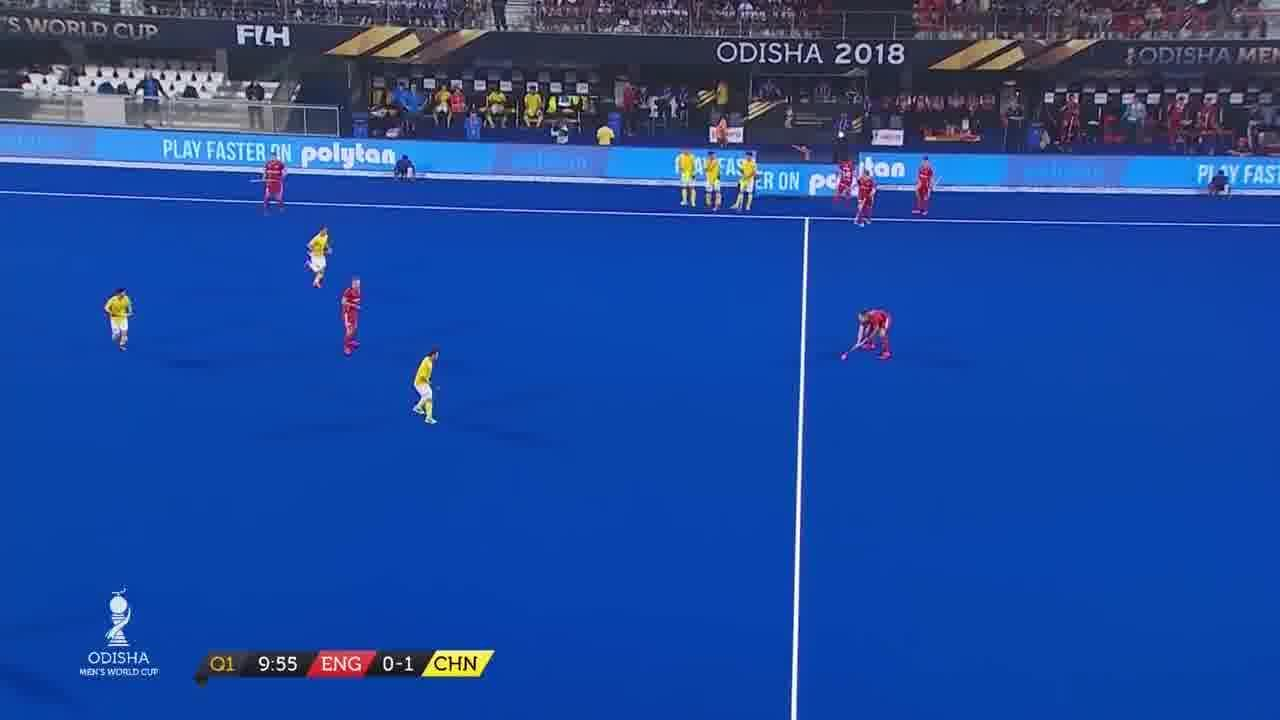ball: (833, 346, 862, 368)
